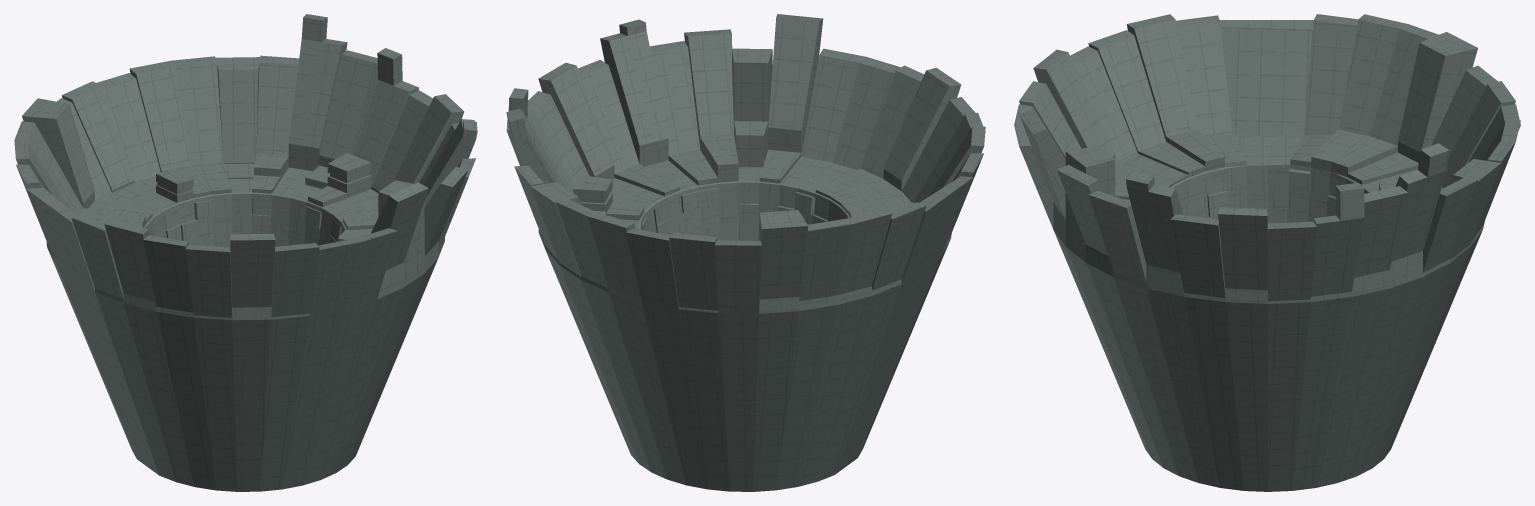
File: hole.fbx
3 views of the same model, side by side, from view 1: azimuth 30°, elevation 25°; view 2: azimuth 150°, elevation 25°; view 3: azimuth 270°, elevation 25° (orthographic). The views are drawn at different scales.
Parts seen in each view (by area): view 1: Circle; view 2: Circle; view 3: Circle.
Boxes of the visible parts, x1,y1,x2,y2 form: Circle: [14, 14, 477, 491]; Circle: [506, 14, 985, 491]; Circle: [1014, 14, 1520, 491].
Bounding box in the file's own units: 25192 × 20393 × 25437.
1 material, 1 textured.
